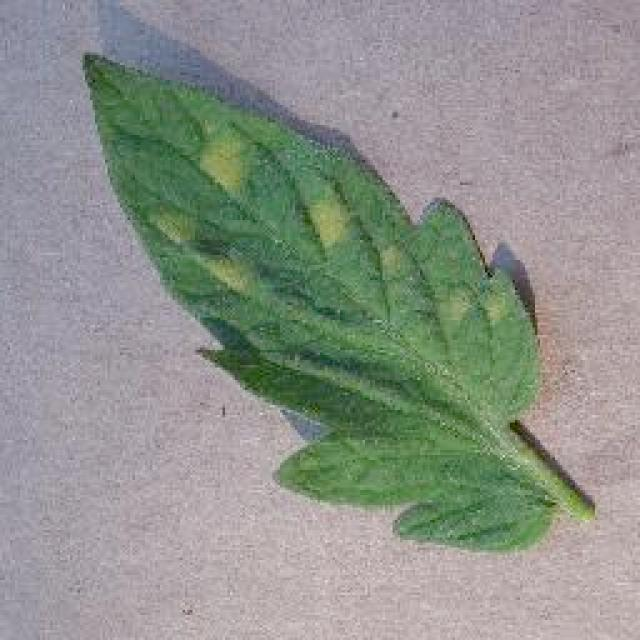Tomato mold leaf: (87, 47, 562, 553)
